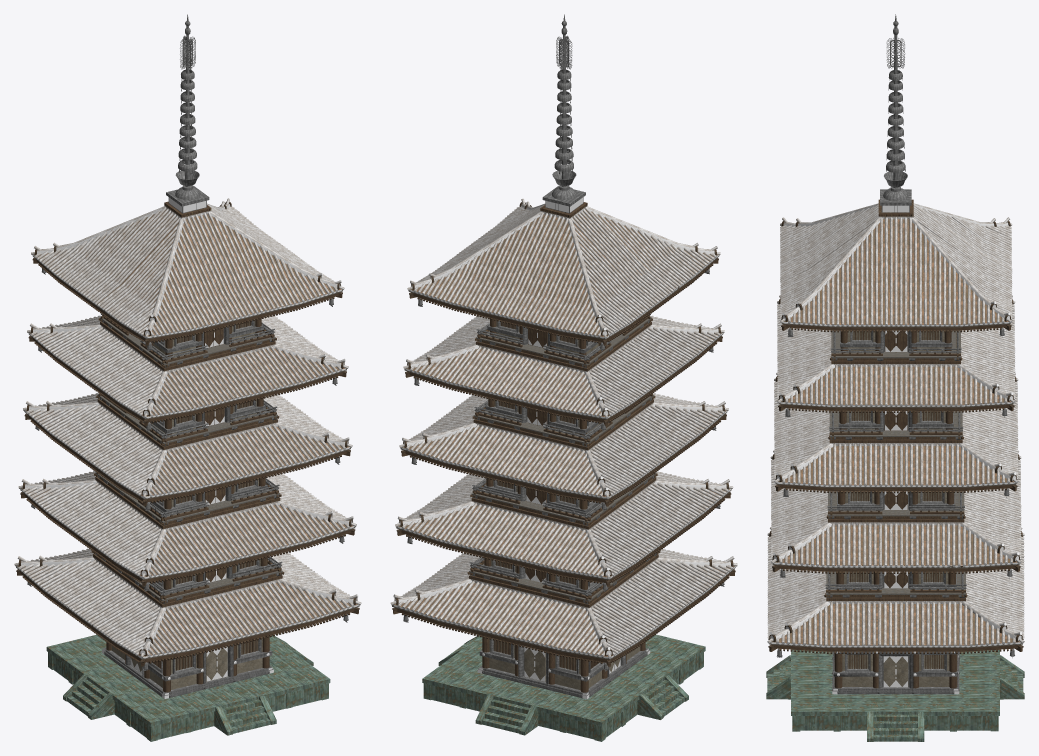
Rendered from Pagoda_Goju_56m.gltf.
3 renders of one model, left to right at view 1: azimuth 30°, elevation 25°; view 2: azimuth 150°, elevation 25°; view 3: azimuth 270°, elevation 25°, orthographic.
Parts seen in each view (by area): view 1: Roof5_LOD0, Roof1_LOD0, Roof2_LOD0, Roof3_LOD0, Roof4_LOD0, Base_LOD0, Wall1_LOD0, Sorin_LOD0, Wall5_LOD0, Wall4_LOD0, Wall3_LOD0, Wall2_LOD0; view 2: Roof5_LOD0, Roof1_LOD0, Roof2_LOD0, Roof3_LOD0, Roof4_LOD0, Base_LOD0, Wall1_LOD0, Sorin_LOD0, Wall5_LOD0, Wall4_LOD0, Wall3_LOD0, Wall2_LOD0; view 3: Roof5_LOD0, Roof1_LOD0, Roof2_LOD0, Roof3_LOD0, Roof4_LOD0, Base_LOD0, Wall1_LOD0, Sorin_LOD0, Wall5_LOD0, Wall4_LOD0, Wall3_LOD0, Wall2_LOD0 (+1 smaller).
Part boxes in pixels (x1=…): Roof5_LOD0: x1=31, y1=198, x2=344, y2=342; Roof1_LOD0: x1=14, y1=548, x2=361, y2=663; Roof2_LOD0: x1=18, y1=470, x2=356, y2=583; Roof3_LOD0: x1=23, y1=393, x2=352, y2=503; Roof4_LOD0: x1=27, y1=313, x2=348, y2=423; Base_LOD0: x1=46, y1=634, x2=330, y2=741; Wall1_LOD0: x1=17, y1=572, x2=358, y2=698; Sorin_LOD0: x1=166, y1=14, x2=209, y2=213; Wall5_LOD0: x1=33, y1=260, x2=342, y2=356; Wall4_LOD0: x1=29, y1=338, x2=346, y2=435; Wall3_LOD0: x1=25, y1=416, x2=350, y2=513; Wall2_LOD0: x1=21, y1=494, x2=354, y2=594; Roof5_LOD0: x1=407, y1=198, x2=720, y2=343; Roof1_LOD0: x1=390, y1=548, x2=737, y2=663; Roof2_LOD0: x1=395, y1=471, x2=733, y2=583; Roof3_LOD0: x1=399, y1=393, x2=728, y2=503; Roof4_LOD0: x1=403, y1=314, x2=724, y2=423; Base_LOD0: x1=422, y1=634, x2=705, y2=741; Wall1_LOD0: x1=393, y1=572, x2=734, y2=699; Sorin_LOD0: x1=542, y1=14, x2=585, y2=213; Wall5_LOD0: x1=409, y1=260, x2=718, y2=357; Wall4_LOD0: x1=405, y1=338, x2=722, y2=435; Wall3_LOD0: x1=401, y1=416, x2=726, y2=514; Wall2_LOD0: x1=397, y1=494, x2=730, y2=594; Roof5_LOD0: x1=780, y1=199, x2=1012, y2=332; Roof1_LOD0: x1=767, y1=526, x2=1024, y2=653; Roof2_LOD0: x1=770, y1=450, x2=1021, y2=573; Roof3_LOD0: x1=774, y1=372, x2=1018, y2=493; Roof4_LOD0: x1=777, y1=295, x2=1015, y2=412; Base_LOD0: x1=766, y1=649, x2=1024, y2=741; Wall1_LOD0: x1=769, y1=647, x2=1022, y2=694; Sorin_LOD0: x1=880, y1=14, x2=911, y2=212; Wall5_LOD0: x1=782, y1=326, x2=1010, y2=353; Wall4_LOD0: x1=779, y1=407, x2=1013, y2=431; Wall3_LOD0: x1=776, y1=487, x2=1016, y2=511; Wall2_LOD0: x1=772, y1=567, x2=1019, y2=589.
Size of the model in its own units: 20.09 by 57.82 by 20.11.
11 materials, 10 textured.
